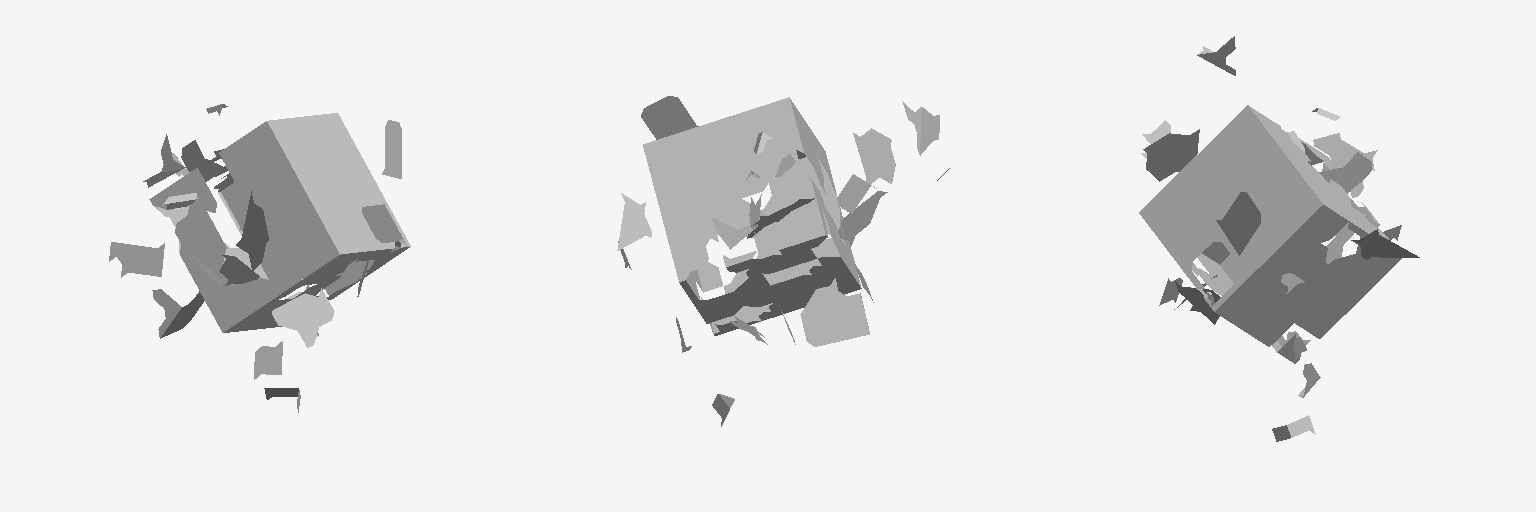
Rendered from explode_000033.obj.
3 views of the same model, side by side, from view 1: azimuth 30°, elevation 25°; view 2: azimuth 150°, elevation 25°; view 3: azimuth 270°, elevation 25° (orthographic).
Visible parts, largest first — view 1: Cube_Cube.001; view 2: Cube_Cube.001; view 3: Cube_Cube.001.
Part boxes in pixels (x1,y1,x2,y2): Cube_Cube.001: (109,104,410,412); Cube_Cube.001: (617,96,949,426); Cube_Cube.001: (1139,36,1419,441).
Bounding box in the file's own units: 4.23 × 4.72 × 3.64.